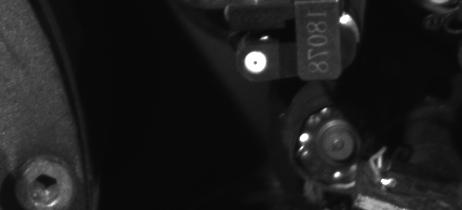fiber: (241, 47, 273, 77)
